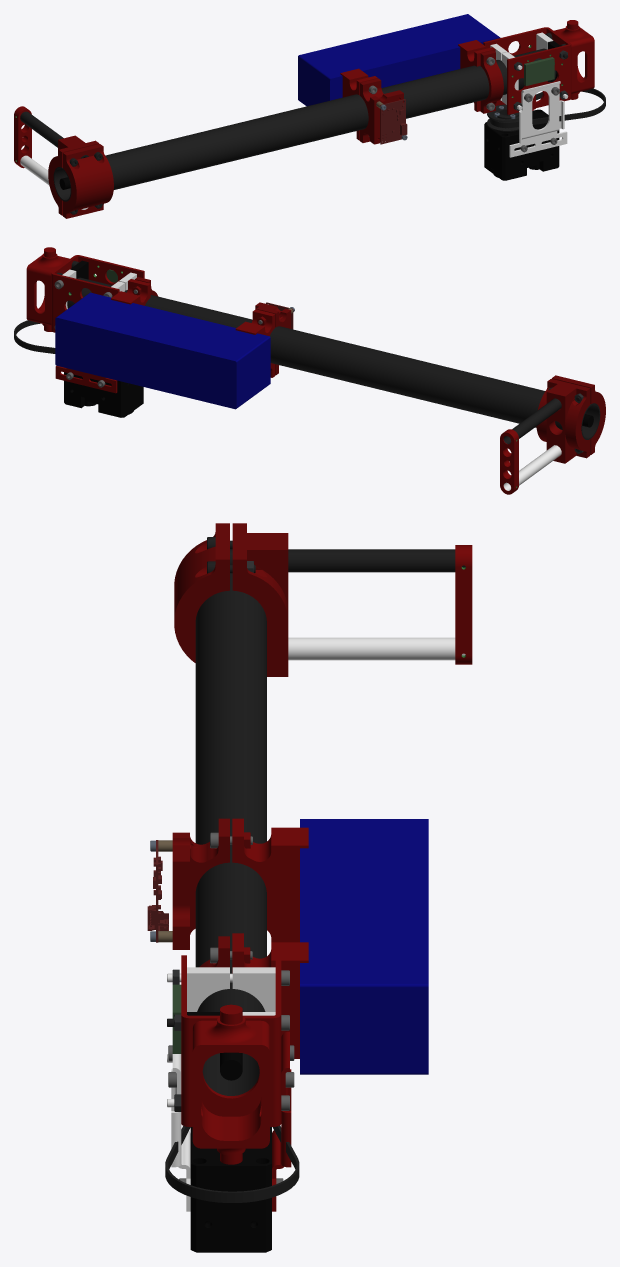
File: ducted_fan_head_link.dae
3 views of the same model, one above another, from view 1: azimuth 30°, elevation 25°; view 2: azimuth 150°, elevation 25°; view 3: azimuth 270°, elevation 25° (orthographic). The views are drawn at different scales.
Parts seen in each view (by area): view 1: Body_1 (×16), _3DGeom_124, Body_2, _3DGeom_1496; view 2: Body_1 (×13), _3DGeom_124, _3DGeom_1496; view 3: Body_1 (×16), _3DGeom_124, _3DGeom_1496.
Boxes of the visible parts, x1,y1,x2,y2 form: Body_1 (×16): [20, 14, 605, 218]; _3DGeom_124: [483, 27, 571, 114]; Body_2: [380, 99, 405, 144]; _3DGeom_1496: [14, 106, 31, 168]; Body_1 (×13): [14, 247, 605, 490]; _3DGeom_124: [51, 255, 144, 332]; _3DGeom_1496: [500, 429, 518, 494]; Body_1 (×16): [165, 523, 465, 1252]; _3DGeom_124: [181, 955, 281, 1126]; _3DGeom_1496: [455, 545, 472, 664].
Bounding box in the file's own units: 0.4355 × 0.1136 × 0.1042.
